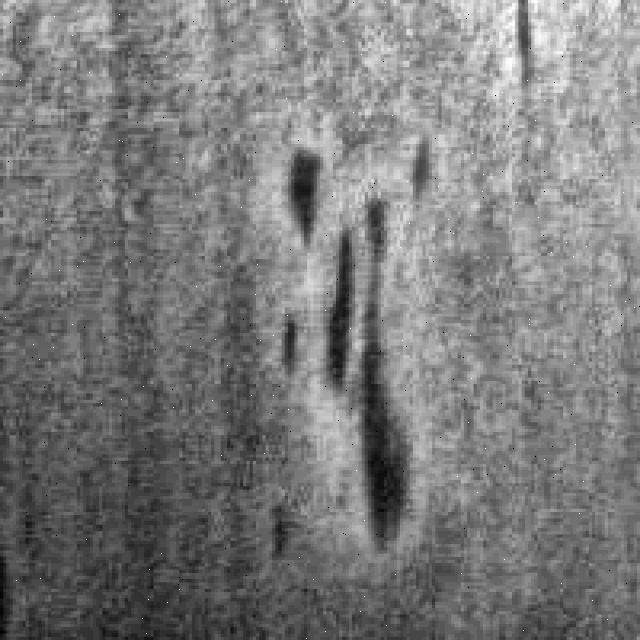Patches: (268, 134, 426, 550), (278, 125, 336, 253), (509, 0, 544, 77)
